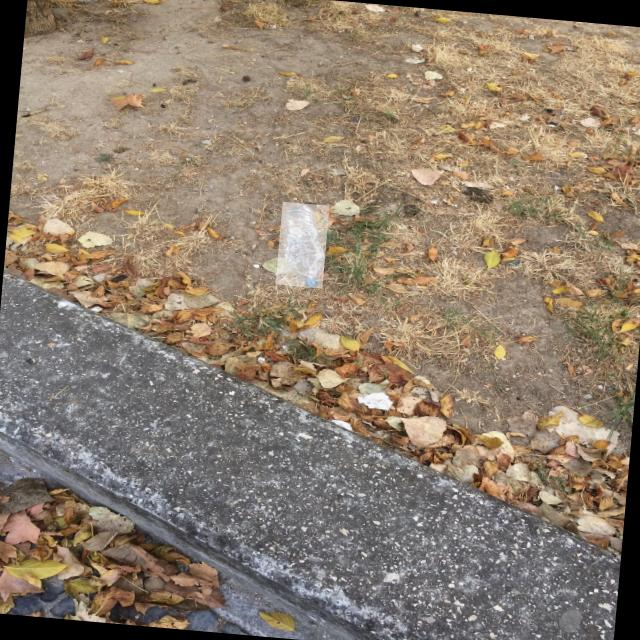Cigarette: (624, 364, 632, 371), (60, 186, 70, 188), (529, 34, 532, 38)
Clear plastic bottle: (281, 203, 324, 287)
